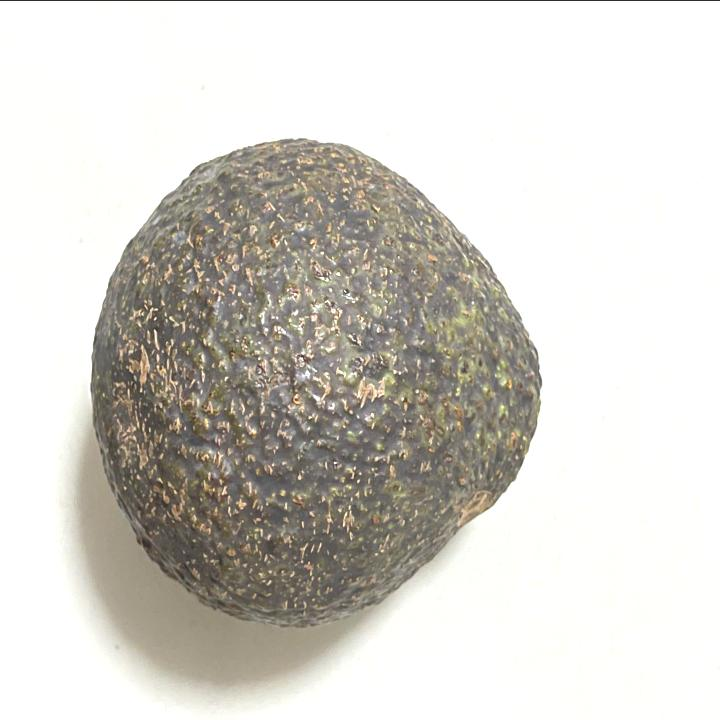Level1: (73, 125, 556, 639)
